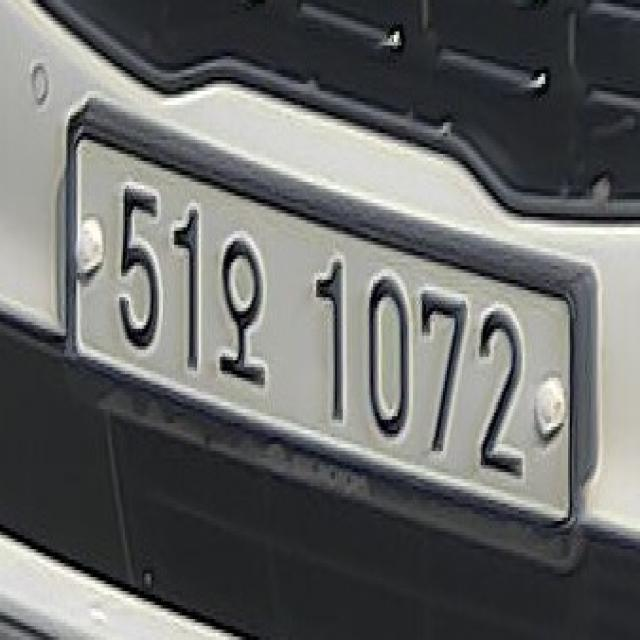0: (360, 262, 415, 450)
1: (310, 244, 354, 434), (167, 196, 206, 378)
2: (473, 292, 527, 496)
5: (114, 170, 164, 360)
7: (418, 278, 470, 472)
license_plate: (55, 83, 598, 566)
o: (212, 221, 274, 405)
